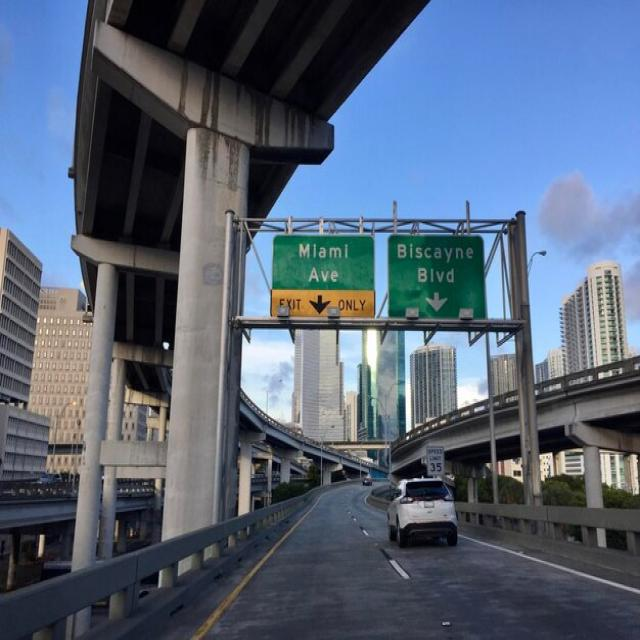Billboard_overhead: (383, 220, 500, 335), (267, 221, 381, 327)
Roadcorner: (187, 497, 335, 638), (469, 533, 639, 614)
Roadlane: (345, 494, 478, 635)
